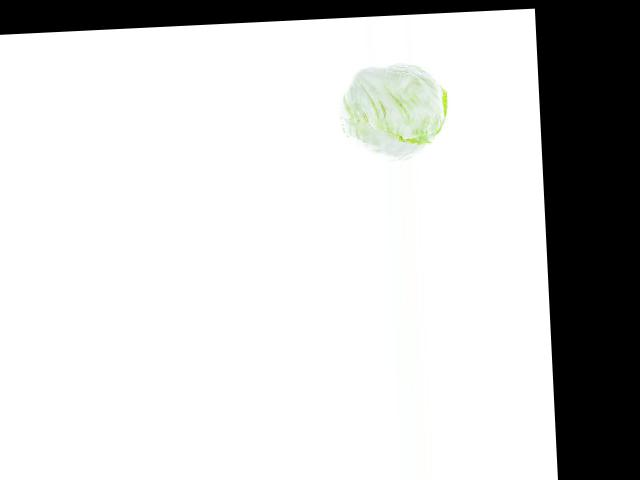lettuce: (338, 66, 448, 161)
